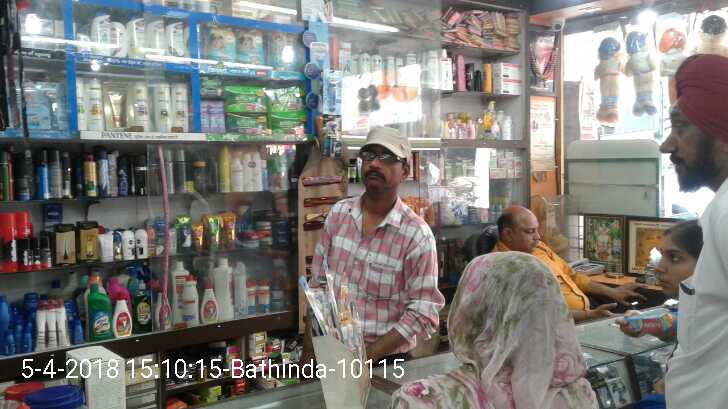gillete: (1, 213, 16, 274), (323, 116, 342, 157), (325, 70, 343, 112), (18, 210, 31, 238), (20, 240, 30, 272)
venus: (38, 81, 67, 131)
